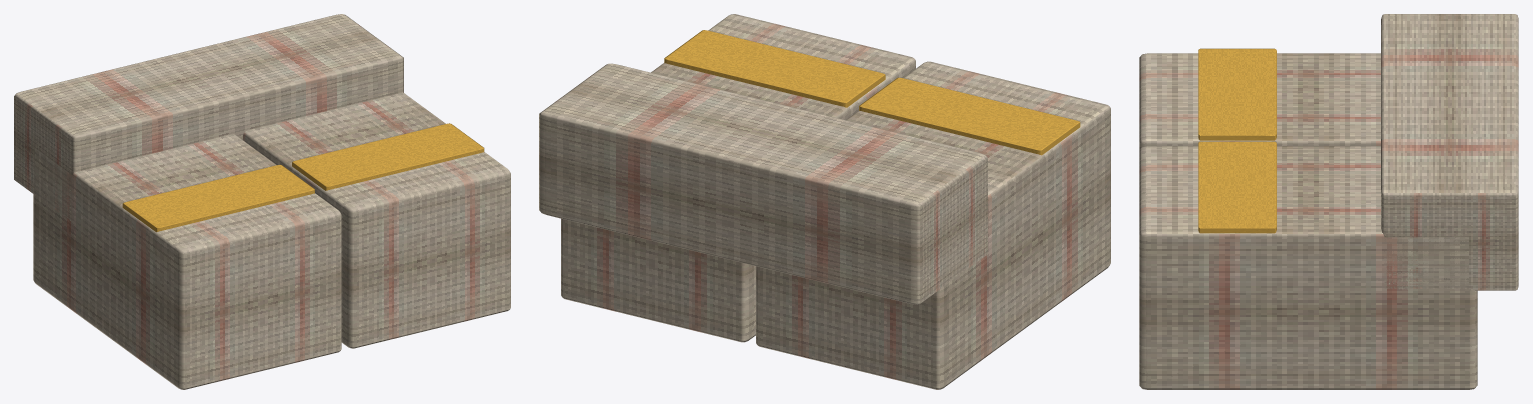
Rendered from trousers.glb.
3 renders of one model, left to right at view 1: azimuth 30°, elevation 25°; view 2: azimuth 150°, elevation 25°; view 3: azimuth 270°, elevation 25°, orthographic. The views are drawn at different scales.
Parts seen in each view (by area): view 1: folded-leg (×2), waist, reflector (×2); view 2: folded-leg (×2), waist, reflector (×2); view 3: folded-leg (×2), waist, reflector (×2).
Boxes of the visible parts, left/top/right/bottom form: folded-leg (×2): left=33, top=92, right=510, bottom=389; waist: left=14, top=14, right=403, bottom=221; reflector (×2): left=122, top=123, right=484, bottom=232; folded-leg (×2): left=561, top=14, right=1110, bottom=389; waist: left=539, top=63, right=987, bottom=304; reflector (×2): left=664, top=30, right=1080, bottom=155; folded-leg (×2): left=1139, top=53, right=1477, bottom=389; waist: left=1381, top=14, right=1518, bottom=290; reflector (×2): left=1198, top=48, right=1276, bottom=233.
Bounding box in the file's own units: 0.3936 × 0.2 × 0.3474.
2 materials, 2 textured.
